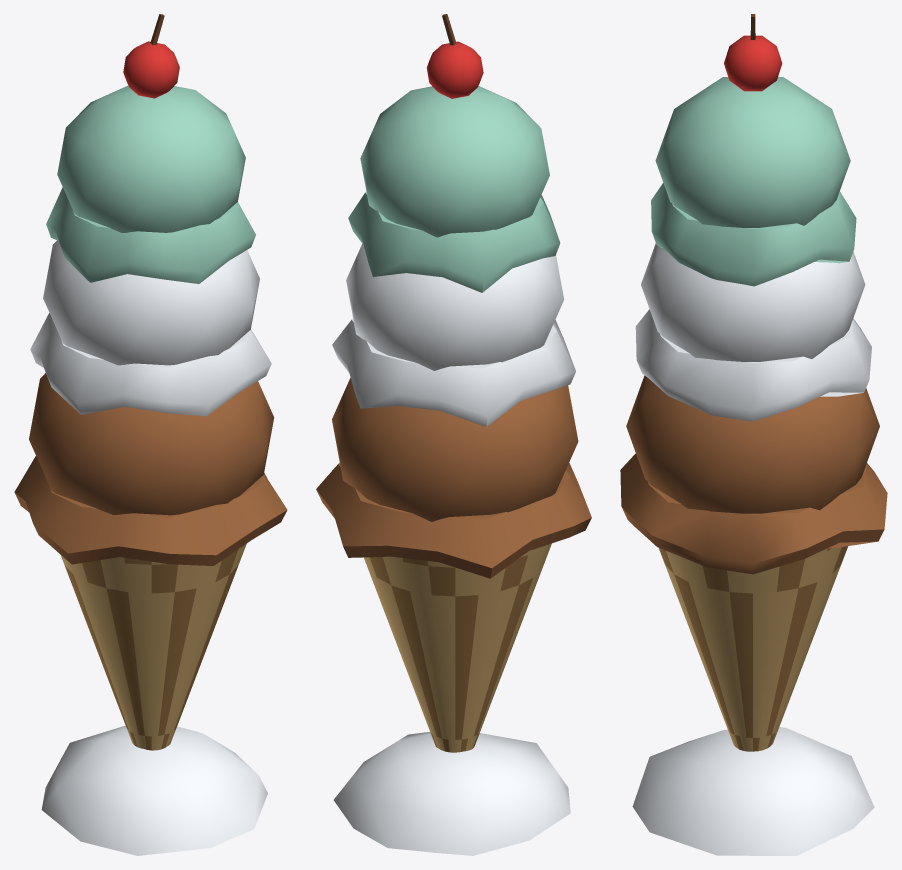
The model's file is IceCreamCone.fbx.
3 renders of one model, left to right at view 1: azimuth 30°, elevation 25°; view 2: azimuth 150°, elevation 25°; view 3: azimuth 270°, elevation 25°, orthographic.
Visible parts, largest first — view 1: IceCreamCone; view 2: IceCreamCone; view 3: IceCreamCone.
Part boxes in pixels (left/top/right/bottom): IceCreamCone: left=14, top=14, right=287, bottom=855; IceCreamCone: left=316, top=14, right=591, bottom=855; IceCreamCone: left=620, top=14, right=887, bottom=855.
Size of the model in its own units: 1.12 by 3.6 by 1.09.
2 materials, 2 textured.
